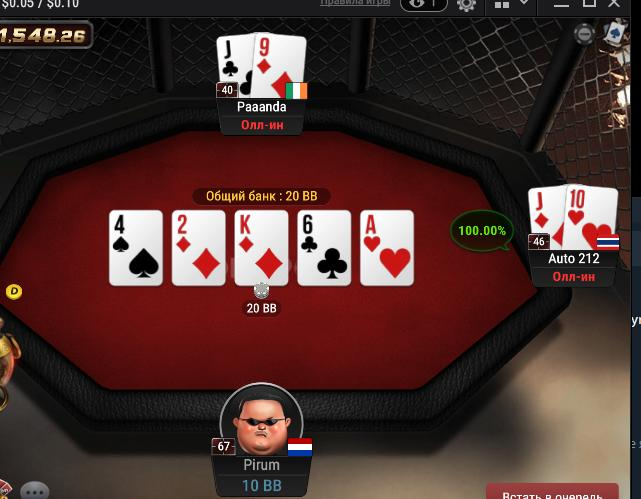10h: (565, 185, 618, 251)
2d: (173, 210, 225, 284)
4s: (109, 211, 161, 283)
6c: (298, 211, 351, 284)
9d: (253, 34, 305, 96)
Ah: (361, 211, 413, 284)
Jc: (217, 37, 254, 96)
Jd: (531, 186, 565, 249)
Kd: (235, 210, 288, 285)
